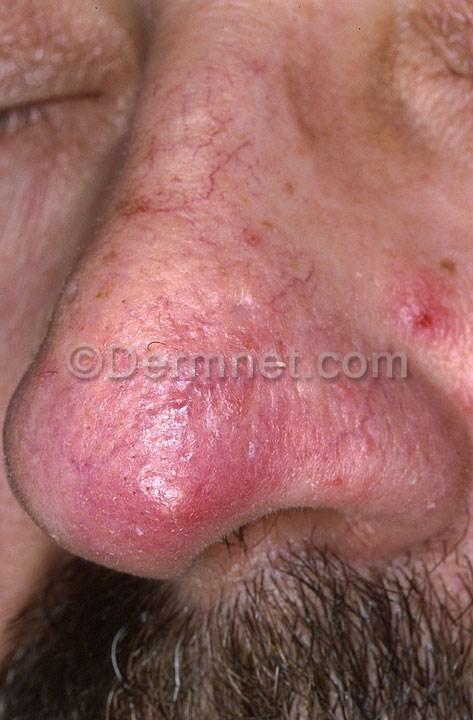Acne: (91, 429, 237, 542), (415, 249, 473, 362)
